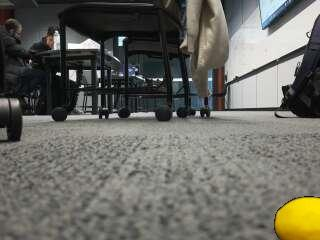lemon: (276, 198, 320, 240)
